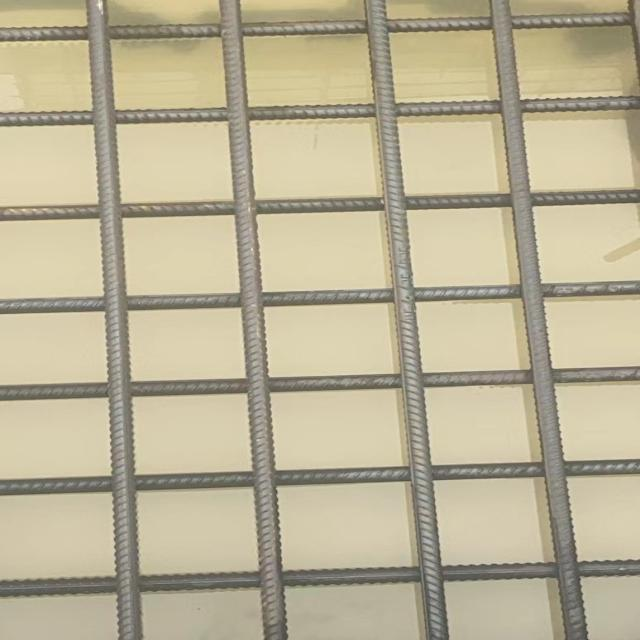ribbed bar: (488, 0, 589, 639), (361, 0, 449, 639), (218, 0, 290, 639), (83, 0, 144, 639), (0, 456, 638, 495), (0, 558, 638, 596), (0, 278, 638, 315), (0, 187, 638, 221), (0, 364, 638, 398), (0, 11, 638, 43), (0, 94, 638, 124)
